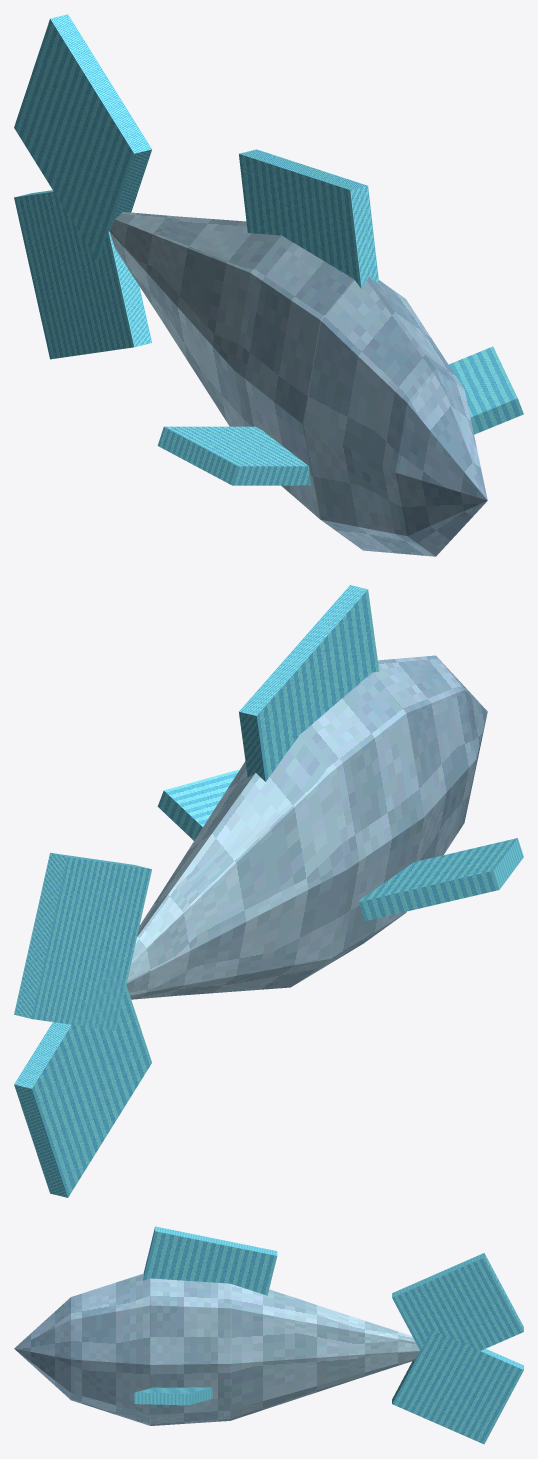
The model's file is bacalhau_artico.glb.
The picture shows the model from 3 angles, top to bottom: view 1: azimuth 30°, elevation 25°; view 2: azimuth 150°, elevation 25°; view 3: azimuth 270°, elevation 25°; orthographic projection. The views are drawn at different scales.
Parts seen in each view (by area): view 1: bacalhau_artico; view 2: bacalhau_artico; view 3: bacalhau_artico.
Boxes of the visible parts, x1=… form: bacalhau_artico: x1=14, y1=14, x2=523, y2=556; bacalhau_artico: x1=14, y1=585, x2=523, y2=1197; bacalhau_artico: x1=14, y1=1226, x2=523, y2=1444.
Size of the model in its own units: 0.4183 by 0.4549 by 0.9854.
1 material, 1 textured.
